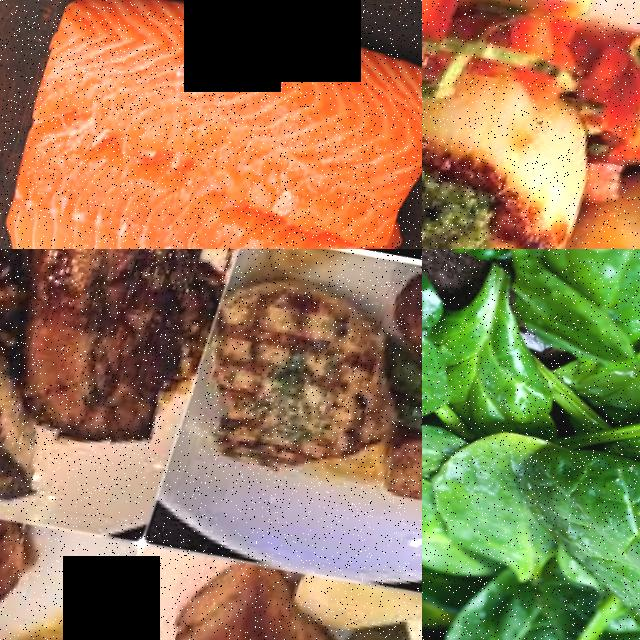salmon: (0, 0, 422, 249)
sea scallops: (422, 46, 601, 210)
spinach: (496, 440, 640, 614), (425, 410, 550, 562), (439, 312, 563, 430), (444, 576, 594, 640), (422, 454, 442, 545)
